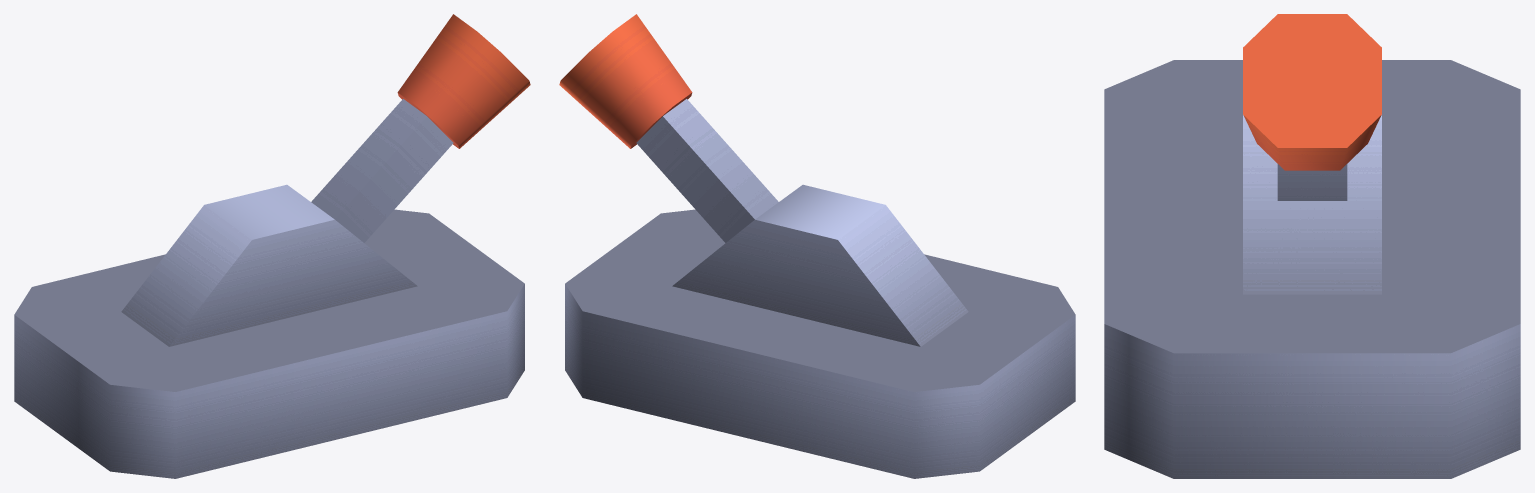
The model's file is lever-single.glb.
3 views of the same model, side by side, from view 1: azimuth 30°, elevation 25°; view 2: azimuth 150°, elevation 25°; view 3: azimuth 270°, elevation 25° (orthographic). The views are drawn at different scales.
Parts seen in each view (by area): view 1: lever-single-col, handle-col.002; view 2: lever-single-col, handle-col.002; view 3: lever-single-col, handle-col.002.
Part boxes in pixels (box(x1,y1,x2,y2)): lever-single-col: box(14, 184, 524, 478); handle-col.002: box(311, 14, 530, 242); lever-single-col: box(565, 184, 1075, 478); handle-col.002: box(559, 14, 778, 242); lever-single-col: box(1104, 60, 1520, 478); handle-col.002: box(1243, 14, 1381, 200).
Size of the model in its own units: 0.5503 by 0.3633 by 0.3.
Materials: 1 (1 with a texture image).
